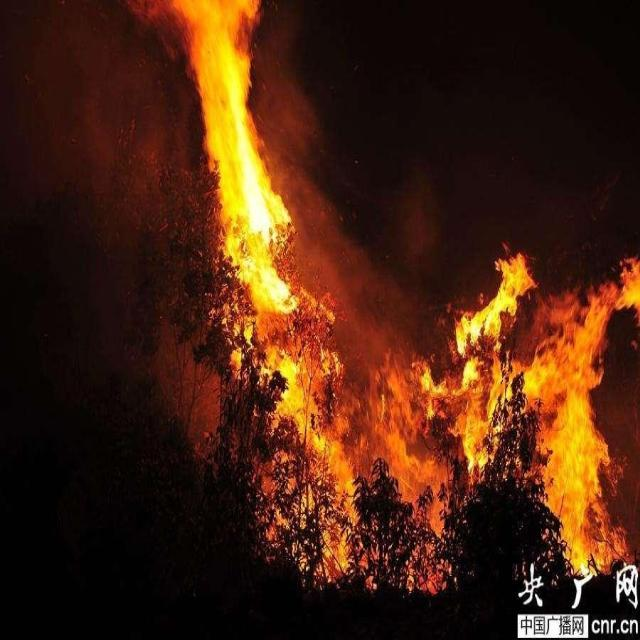Fire: (131, 1, 640, 595)
Smoke: (256, 15, 418, 386)
